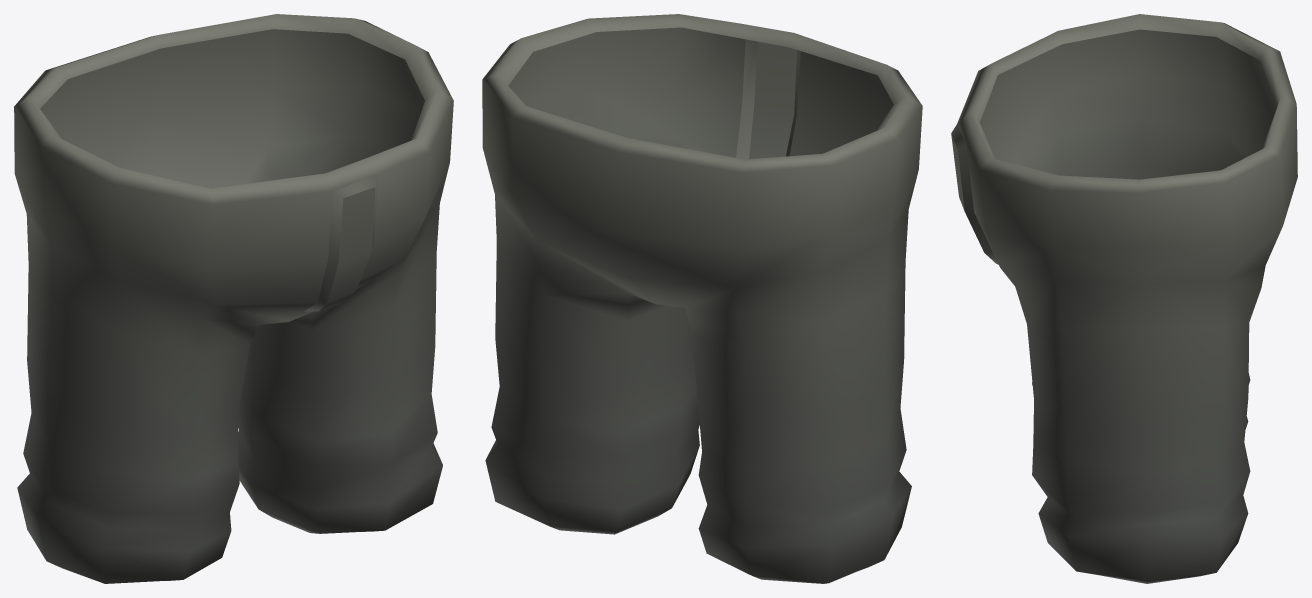
File: Bottom_34.fbx
3 renders of one model, left to right at view 1: azimuth 30°, elevation 25°; view 2: azimuth 150°, elevation 25°; view 3: azimuth 270°, elevation 25°, orthographic. The views are drawn at different scales.
Visible parts, largest first — view 1: Bottom_34; view 2: Bottom_34; view 3: Bottom_34.
Boxes of the visible parts, x1,y1,x2,y2 form: Bottom_34: [14, 14, 453, 583]; Bottom_34: [482, 14, 922, 583]; Bottom_34: [951, 14, 1297, 583].
Size of the model in its own units: 38.42 by 41.84 by 31.97.
